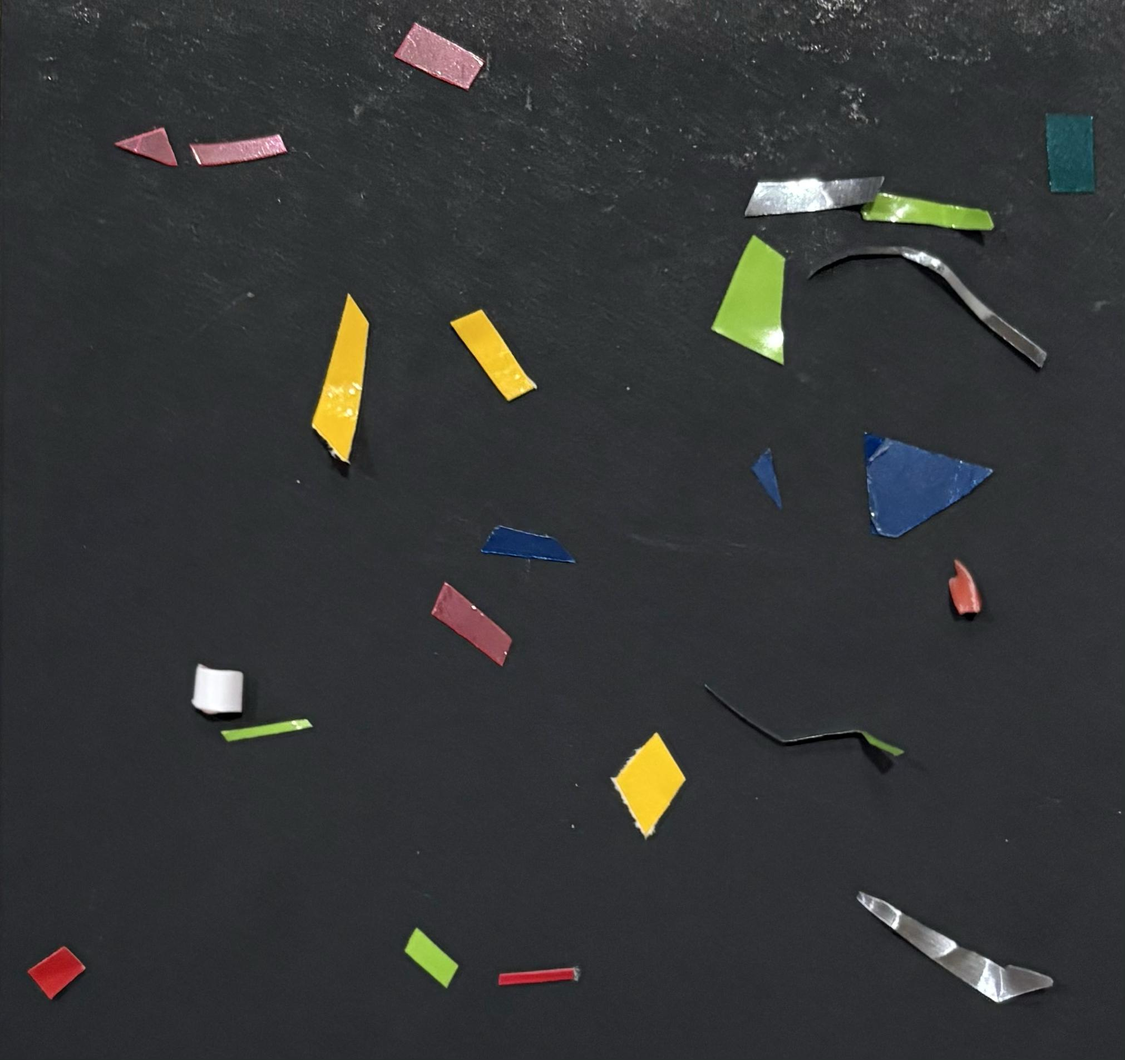Microplastic Particle: (810, 246, 1047, 368), (857, 893, 1053, 1002), (704, 685, 904, 757), (864, 434, 992, 537), (312, 291, 371, 464), (712, 235, 785, 363), (451, 310, 536, 401), (612, 733, 685, 838), (432, 583, 511, 665), (394, 23, 483, 90), (744, 176, 884, 216), (861, 192, 994, 230), (1045, 113, 1095, 193), (480, 526, 575, 563), (404, 928, 458, 988), (190, 134, 287, 166), (28, 946, 85, 999), (192, 664, 244, 715), (115, 126, 177, 166), (221, 719, 311, 741), (948, 558, 982, 615), (751, 448, 781, 509), (498, 967, 580, 985)
